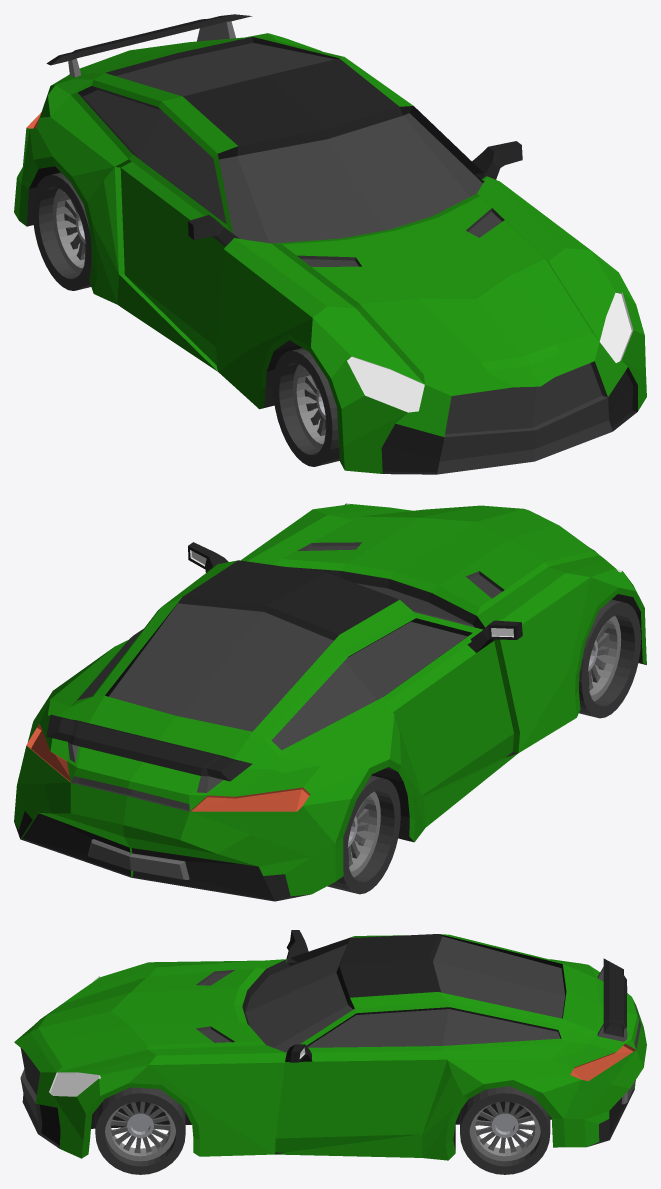
The model's file is mercedesamggtr.fbx.
3 views of the same model, one above another, from view 1: azimuth 30°, elevation 25°; view 2: azimuth 150°, elevation 25°; view 3: azimuth 270°, elevation 25° (orthographic). The views are drawn at different scales.
Parts seen in each view (by area): view 1: GreenBody, FrontRight, BackRight; view 2: GreenBody, FrontRight, BackRight; view 3: GreenBody, FrontLeft, BackLeft.
Part boxes in pixels (x1,y1,x2,y2): GreenBody: (14, 14, 646, 474); FrontRight: (273, 348, 339, 466); BackRight: (32, 172, 91, 290); GreenBody: (14, 503, 646, 901); FrontRight: (579, 599, 640, 718); BackRight: (327, 775, 400, 894); GreenBody: (14, 930, 646, 1160); FrontLeft: (95, 1087, 185, 1174); BackLeft: (460, 1086, 550, 1174).
Size of the model in its own units: 2.09 by 4.6 by 1.28.
